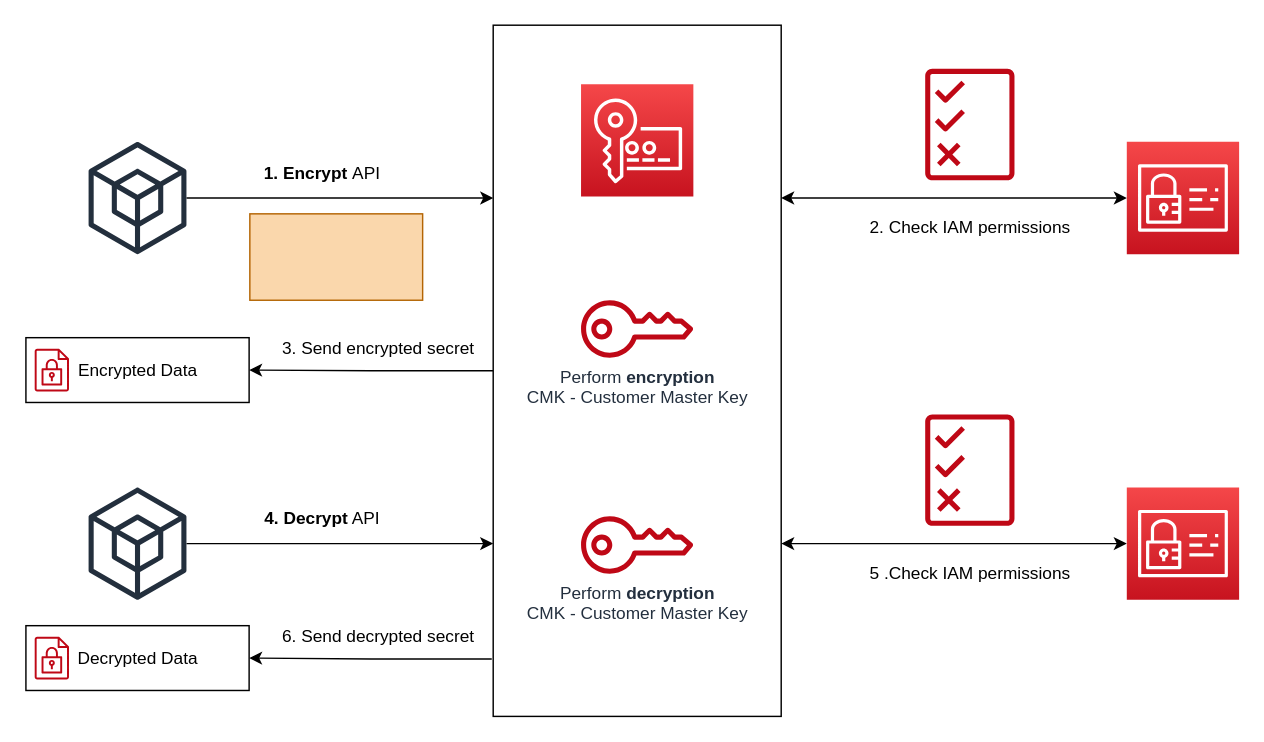
This 1264x742 diagram has some shape labels left out. The shapes that lost their labels are listed below. From the top down, each one's box as (x1, y1, x2, y2) in pixels, then its label:
(580, 83, 693, 197): KMS
(248, 212, 423, 300): File/Secret/Data < 4KB
